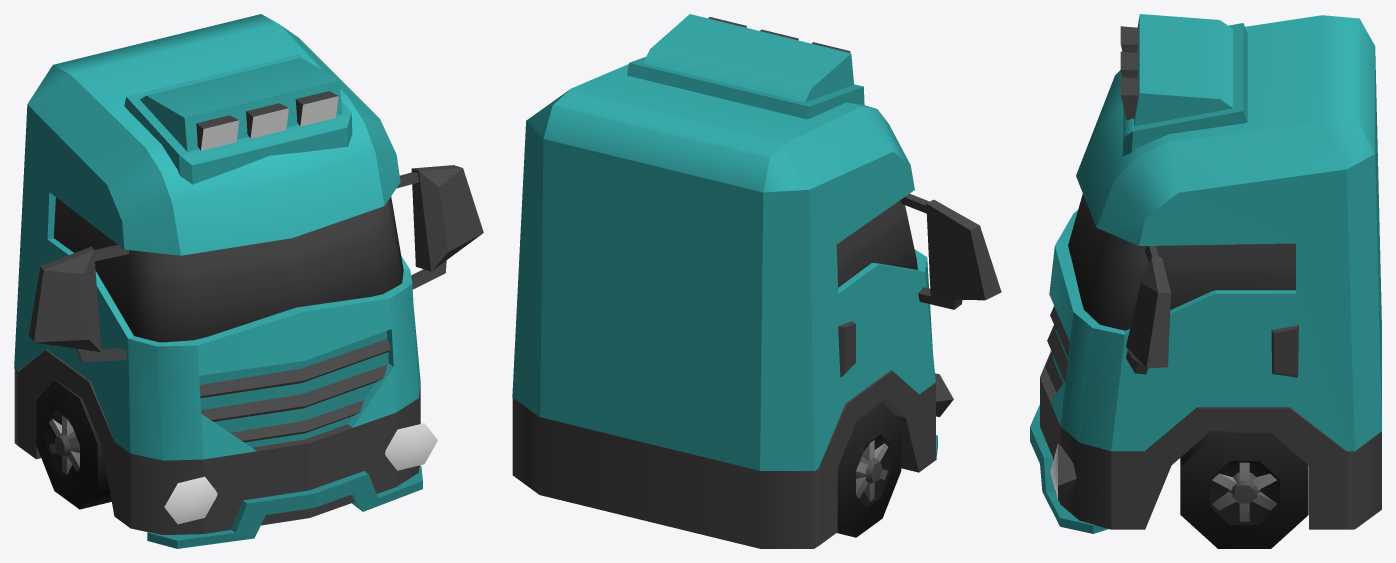
Rendered from head_D_1.fbx.
3 renders of one model, left to right at view 1: azimuth 30°, elevation 25°; view 2: azimuth 150°, elevation 25°; view 3: azimuth 270°, elevation 25°, orthographic. The views are drawn at different scales.
Parts seen in each view (by area): view 1: head_D_1; view 2: head_D_1; view 3: head_D_1.
Boxes of the visible parts, x1,y1,x2,y2 form: head_D_1: (14,14,483,548); head_D_1: (512,14,1001,548); head_D_1: (1030,14,1381,548).
Bounding box in the file's own units: 1874 × 1603 × 1213.
